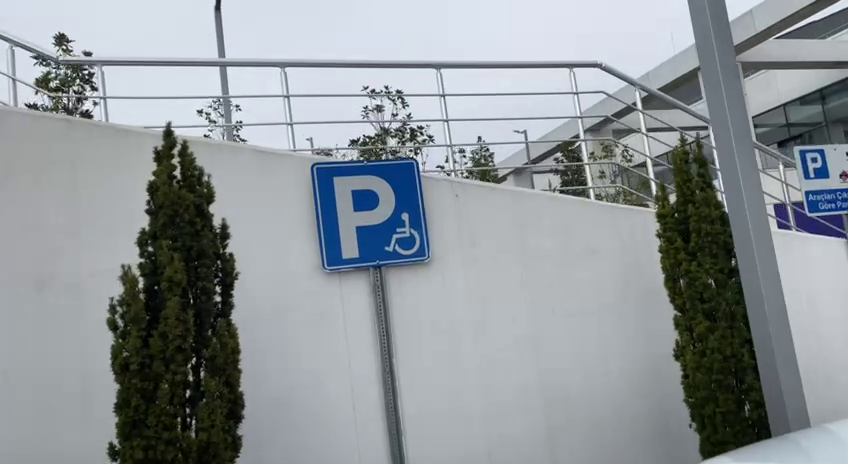parking: (311, 157, 432, 271), (797, 147, 832, 182)
